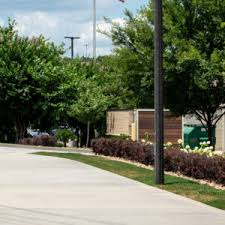light_pole: (152, 2, 169, 186)
